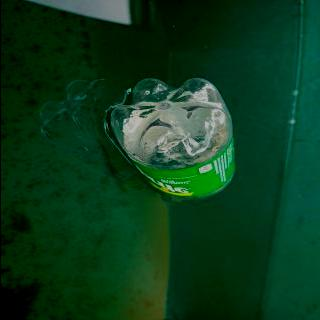bottle: (105, 76, 236, 200)
